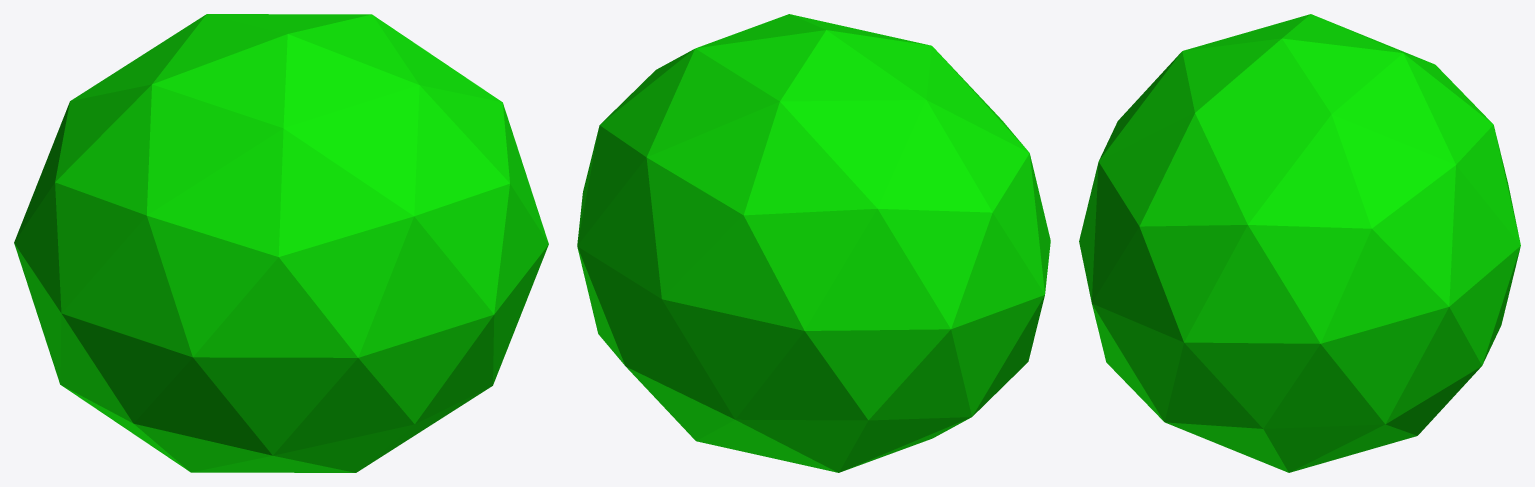
File: bola.gltf
3 views of the same model, side by side, from view 1: azimuth 30°, elevation 25°; view 2: azimuth 150°, elevation 25°; view 3: azimuth 270°, elevation 25° (orthographic). The views are drawn at different scales.
Parts seen in each view (by area): view 1: Icosphere; view 2: Icosphere; view 3: Icosphere.
Boxes of the visible parts, x1,y1,x2,y2 form: Icosphere: [14, 14, 548, 472]; Icosphere: [577, 14, 1050, 472]; Icosphere: [1079, 14, 1520, 472].
Bounding box in the file's own units: 3.01 × 2.71 × 2.66.
